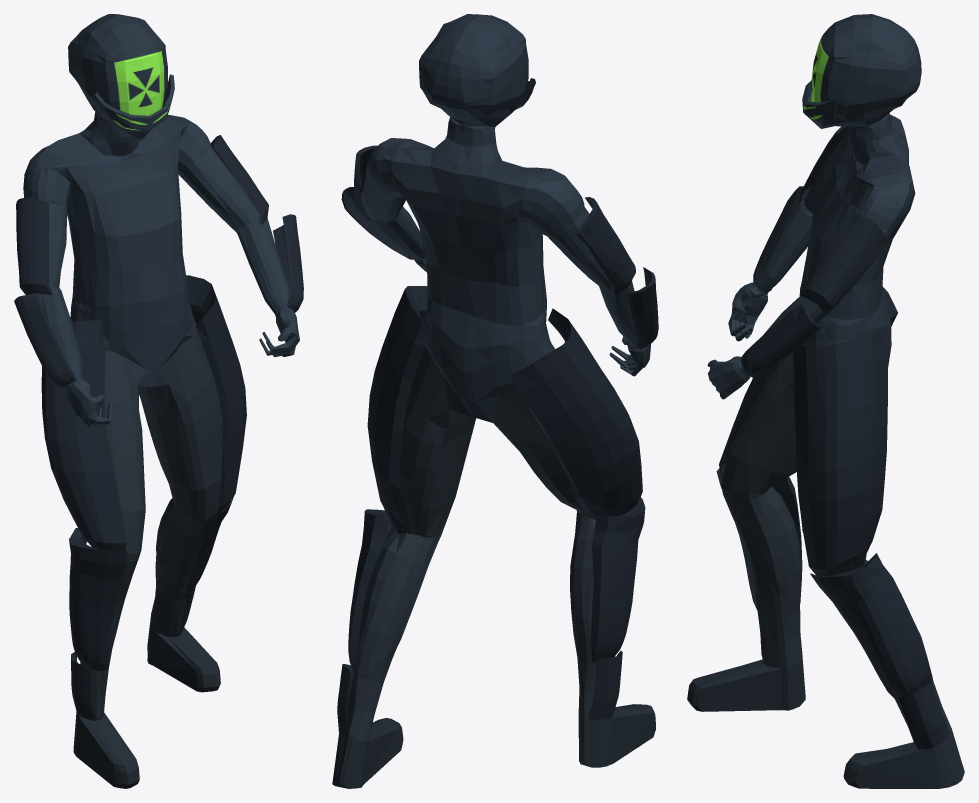
The model's file is Bastion_Stun_000011.obj.
The picture shows the model from 3 angles, left to right: view 1: azimuth 30°, elevation 25°; view 2: azimuth 150°, elevation 25°; view 3: azimuth 270°, elevation 25°; orthographic projection. The views are drawn at different scales.
Visible parts, largest first — view 1: Cube.002; view 2: Cube.002; view 3: Cube.002.
Boxes of the visible parts, bbox=[...] form: Cube.002: bbox=[14, 14, 303, 788]; Cube.002: bbox=[332, 14, 658, 788]; Cube.002: bbox=[687, 14, 964, 788].
Bounding box in the file's own units: 1.6 × 3.75 × 1.3.
